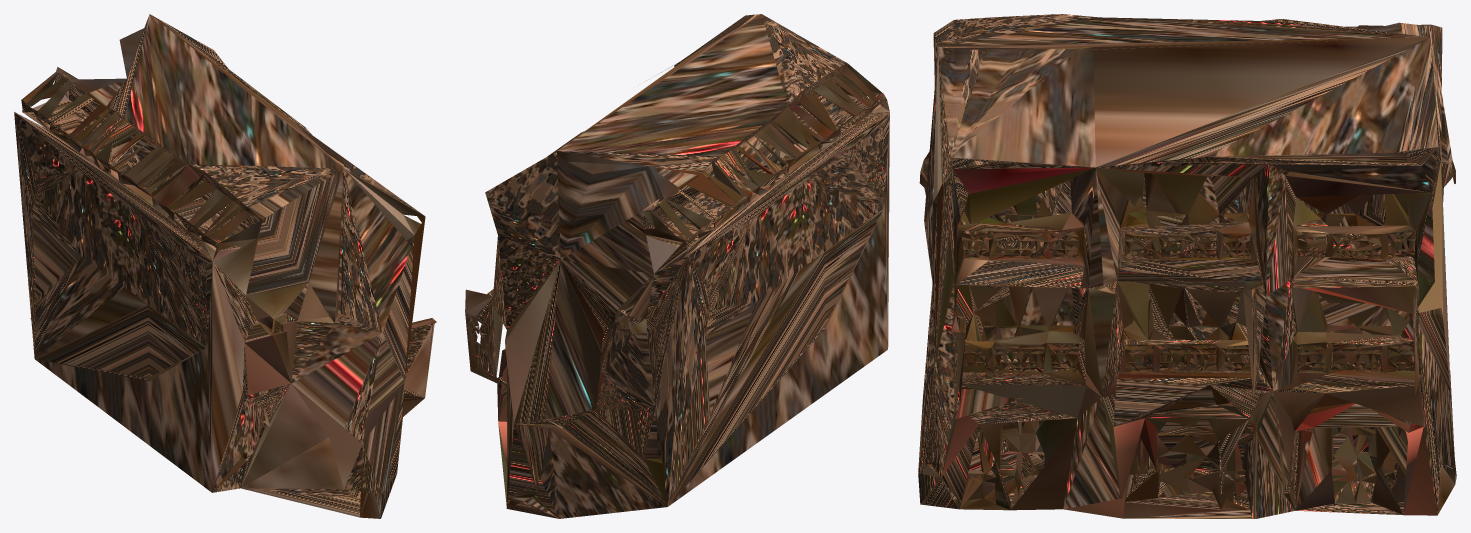
Rendered from o02_far.glb.
3 renders of one model, left to right at view 1: azimuth 30°, elevation 25°; view 2: azimuth 150°, elevation 25°; view 3: azimuth 270°, elevation 25°, orthographic. The views are drawn at different scales.
Visible parts, largest first — view 1: o02_far; view 2: o02_far; view 3: o02_far.
Boxes of the visible parts, box(x1,y1,x2,y2) form: o02_far: box(14, 14, 436, 518); o02_far: box(465, 14, 889, 518); o02_far: box(918, 14, 1456, 518).
Bounding box in the file's own units: 15.94 × 24 × 25.98.
1 material, 1 textured.
